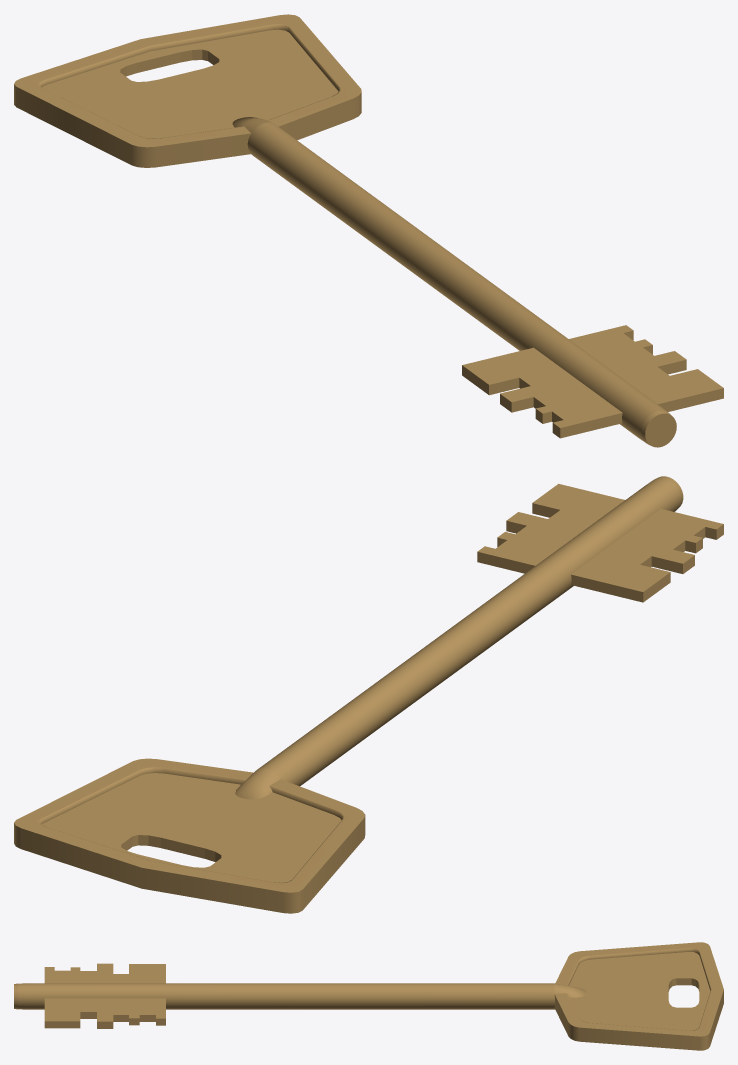
Rendered from key1.fbx.
The picture shows the model from 3 angles, top to bottom: view 1: azimuth 30°, elevation 25°; view 2: azimuth 150°, elevation 25°; view 3: azimuth 270°, elevation 25°; orthographic projection. The views are drawn at different scales.
Parts seen in each view (by area): view 1: key1; view 2: key1; view 3: key1.
Boxes of the visible parts, x1,y1,x2,y2 form: key1: [14, 14, 723, 447]; key1: [14, 476, 723, 913]; key1: [14, 942, 723, 1050].
Size of the model in its own units: 11.45 by 1.35 by 36.4.
